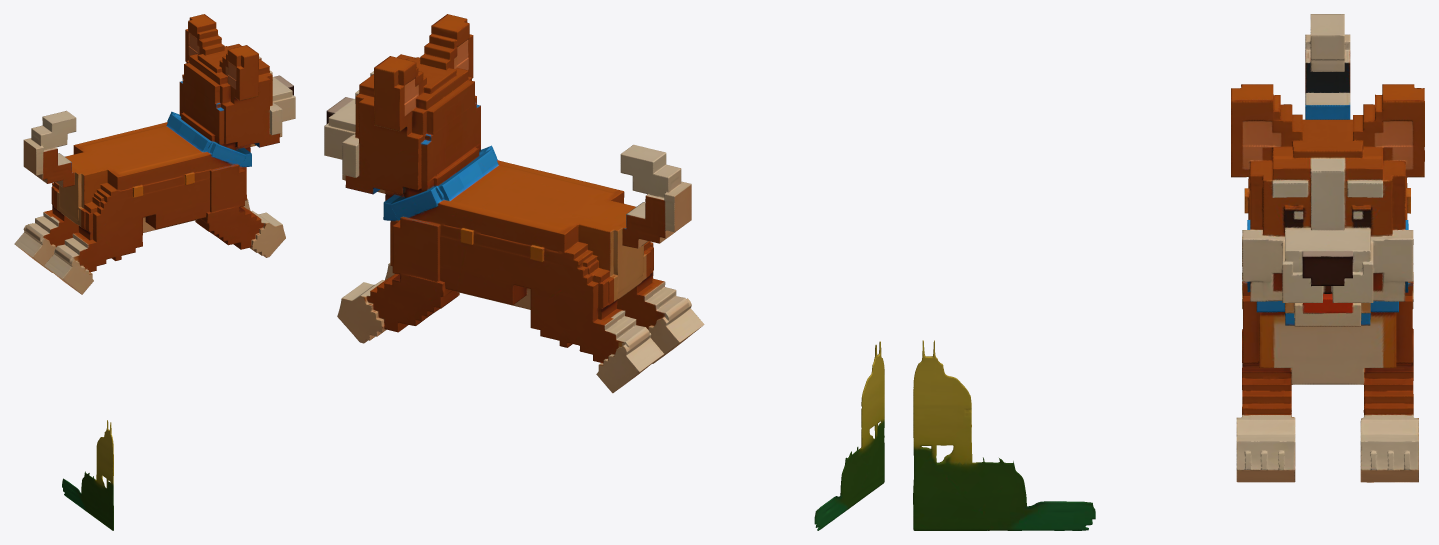
The model's file is model_ca8e30d8-4665-4180-8416-cbb0dbbb73f8_draco.glb.
The picture shows the model from 3 angles, left to right: view 1: azimuth 30°, elevation 25°; view 2: azimuth 150°, elevation 25°; view 3: azimuth 270°, elevation 25°; orthographic projection. The views are drawn at different scales.
Parts seen in each view (by area): view 1: tripo_node_ca8e30d8-4665-4180-8416-cbb0dbbb73f8; view 2: tripo_node_ca8e30d8-4665-4180-8416-cbb0dbbb73f8; view 3: tripo_node_ca8e30d8-4665-4180-8416-cbb0dbbb73f8.
Part boxes in pixels (x1,y1,x2,y2): tripo_node_ca8e30d8-4665-4180-8416-cbb0dbbb73f8: (14, 14, 295, 530); tripo_node_ca8e30d8-4665-4180-8416-cbb0dbbb73f8: (324, 14, 884, 530); tripo_node_ca8e30d8-4665-4180-8416-cbb0dbbb73f8: (913, 14, 1424, 530).
Size of the model in its own units: 0.8555 by 1 by 0.732.
1 material, 1 textured.
